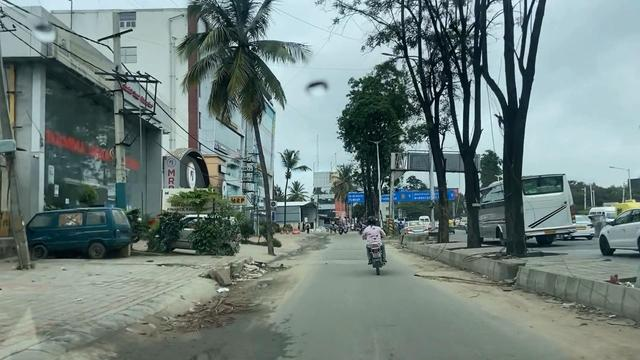LMV: (363, 213, 388, 275)
RoadDamages: (181, 291, 274, 338), (412, 262, 488, 288)
